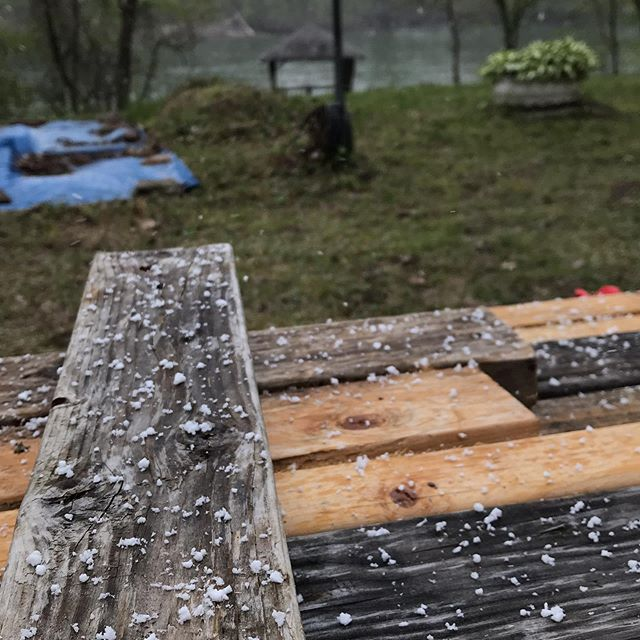grass: (1, 79, 628, 344)
